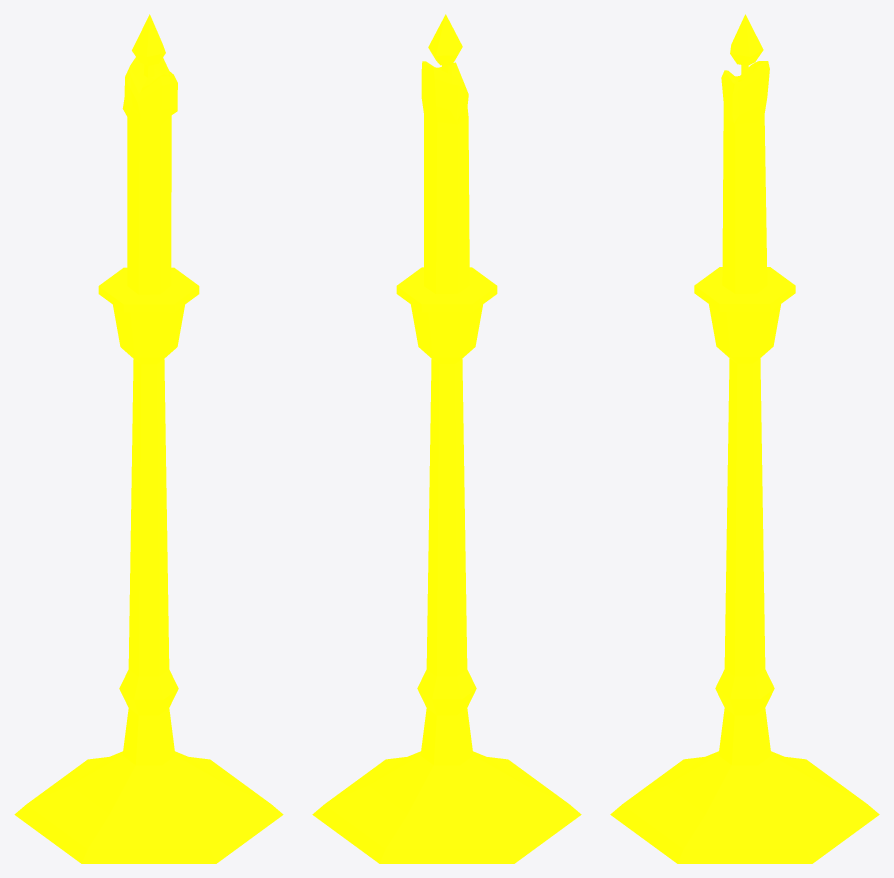
The model's file is candle-holder-tall-b-lit-christmas.glb.
The picture shows the model from 3 angles, left to right: view 1: azimuth 30°, elevation 25°; view 2: azimuth 150°, elevation 25°; view 3: azimuth 270°, elevation 25°; orthographic projection.
Visible parts, largest first — view 1: candle_holder_tall_b_lit_christmas; view 2: candle_holder_tall_b_lit_christmas; view 3: candle_holder_tall_b_lit_christmas.
Boxes of the visible parts, x1,y1,x2,y2 form: candle_holder_tall_b_lit_christmas: (14,14,283,863); candle_holder_tall_b_lit_christmas: (312,14,581,863); candle_holder_tall_b_lit_christmas: (610,14,879,863).
Bounding box in the file's own units: 0.1644 × 0.6221 × 0.1898.
Materials: 2 (2 with a texture image).
